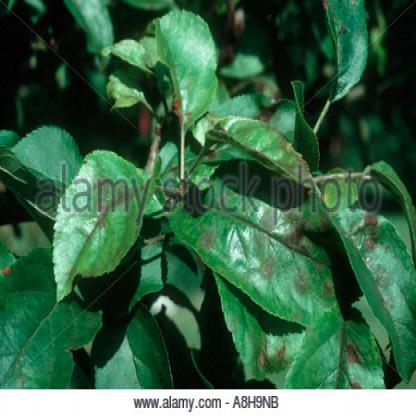Apple Scab Leaf: (174, 167, 341, 328), (333, 199, 415, 388), (58, 133, 150, 293), (214, 96, 326, 203)
